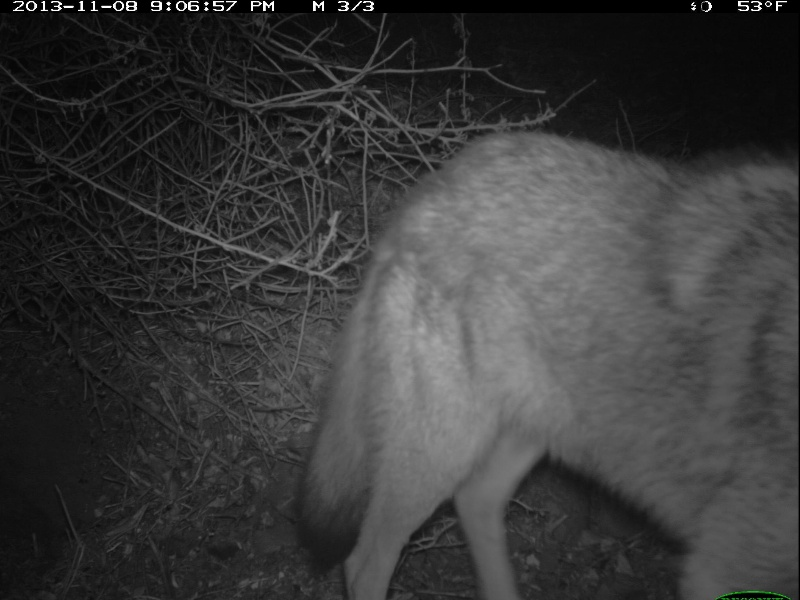coyote: (288, 129, 799, 600)
